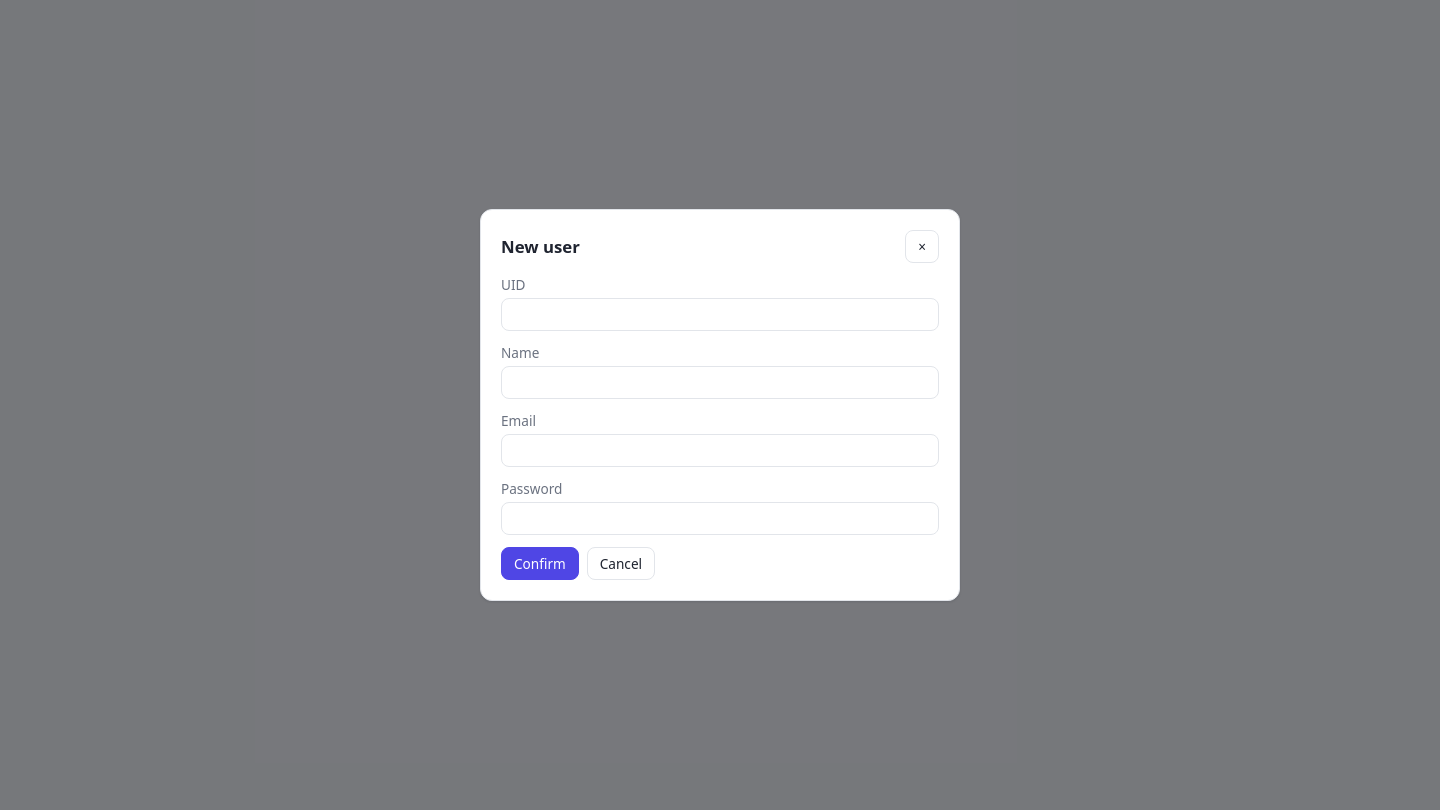
Test case: api error keeps modal open with message
Type "carol" into the field with test id "input-uid" at (720,314), box [501,298,939,331]
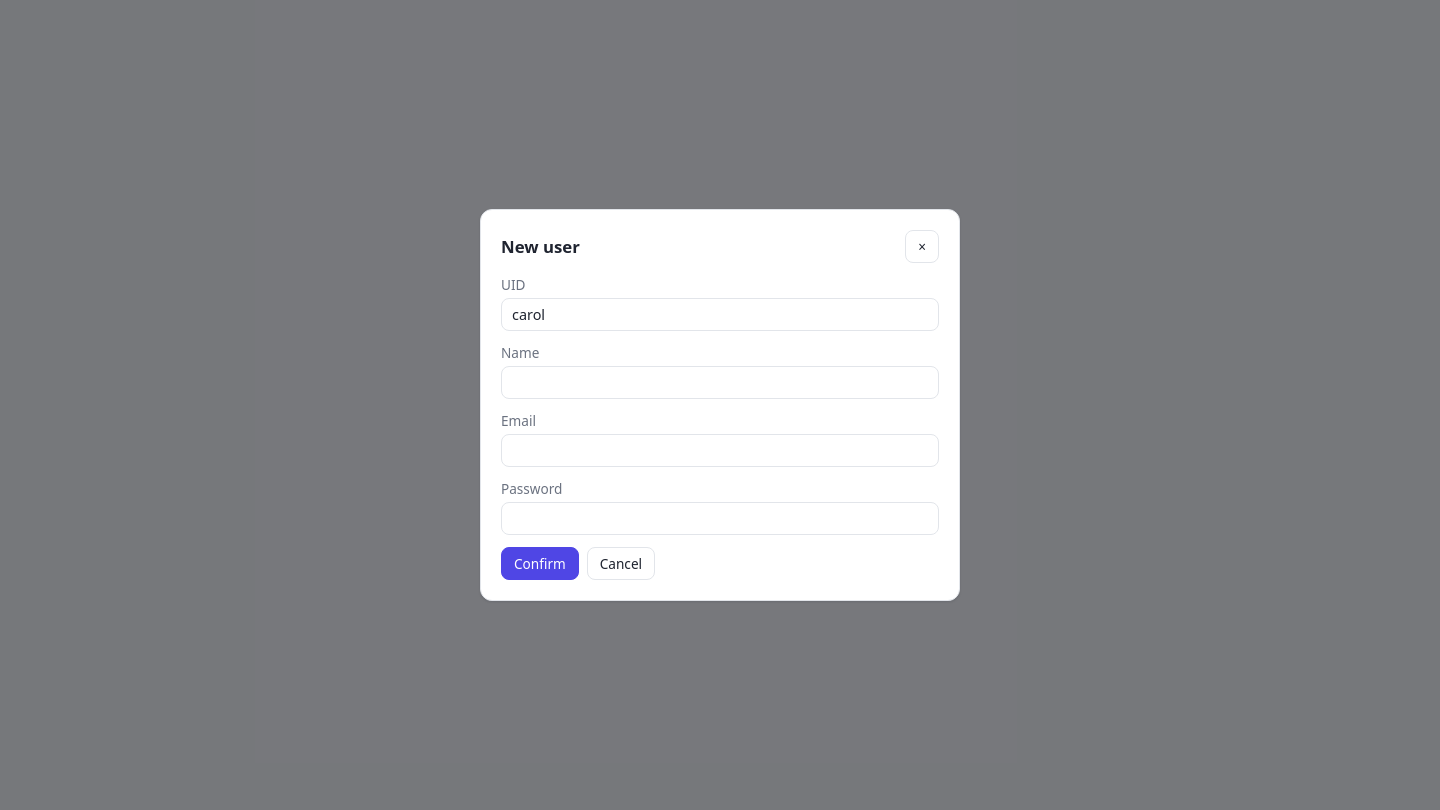
Type "Carol" into the field with test id "input-name" at (720,382), box [501,366,939,399]
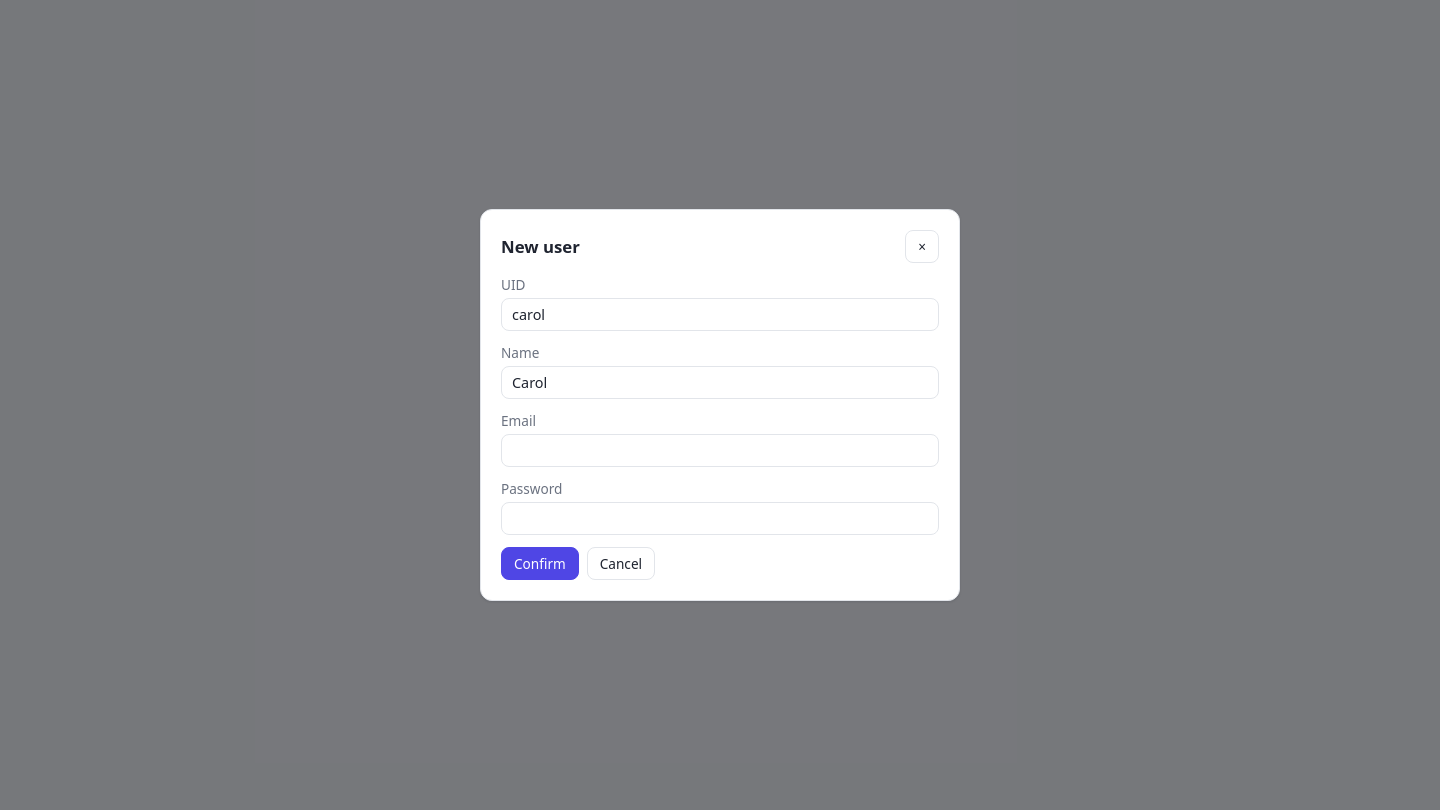
Type "s3cret" into the password field with test id "input-password" at (720,518), box [501,502,939,535]
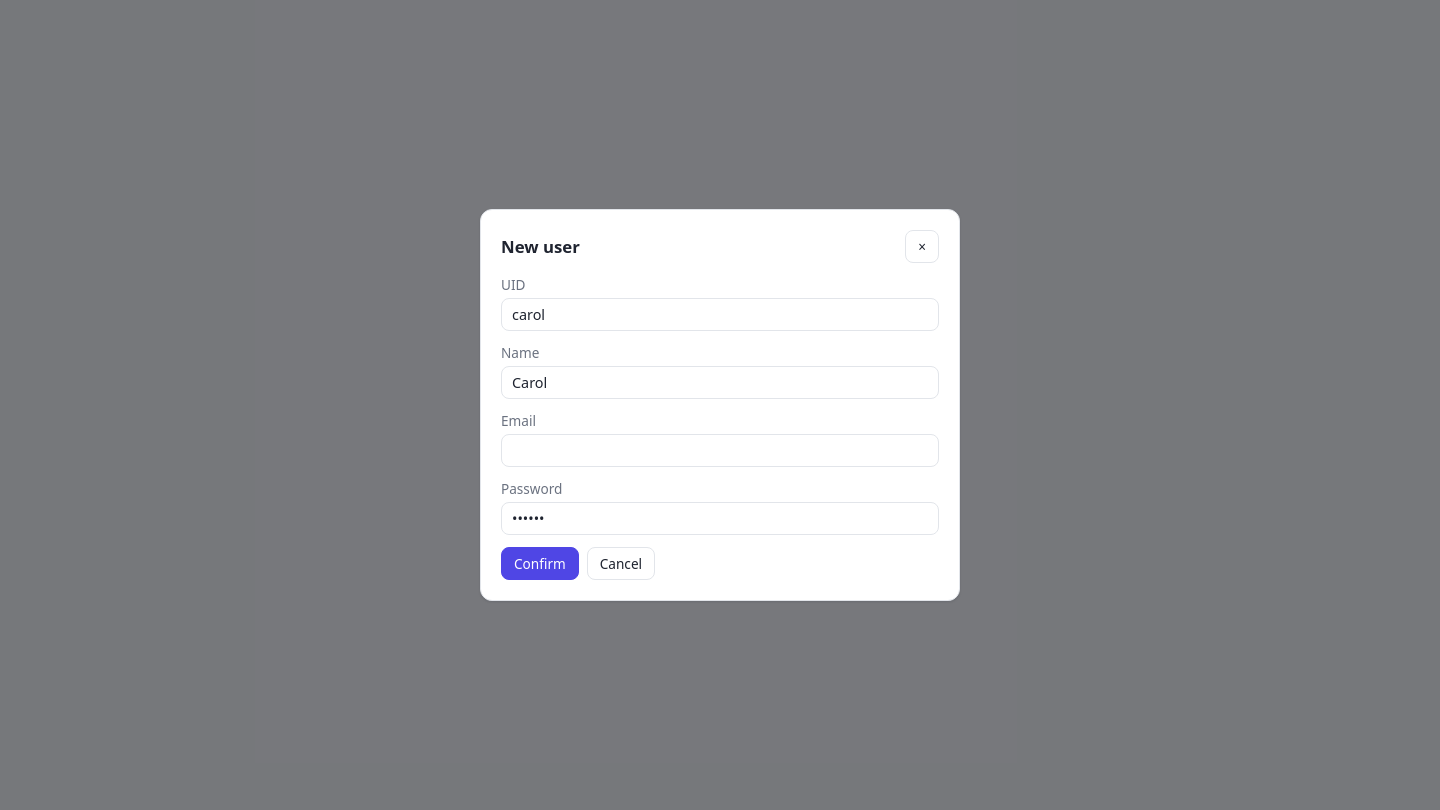
Click the button with test id "create-button" at (540,564), box [501,547,579,580]
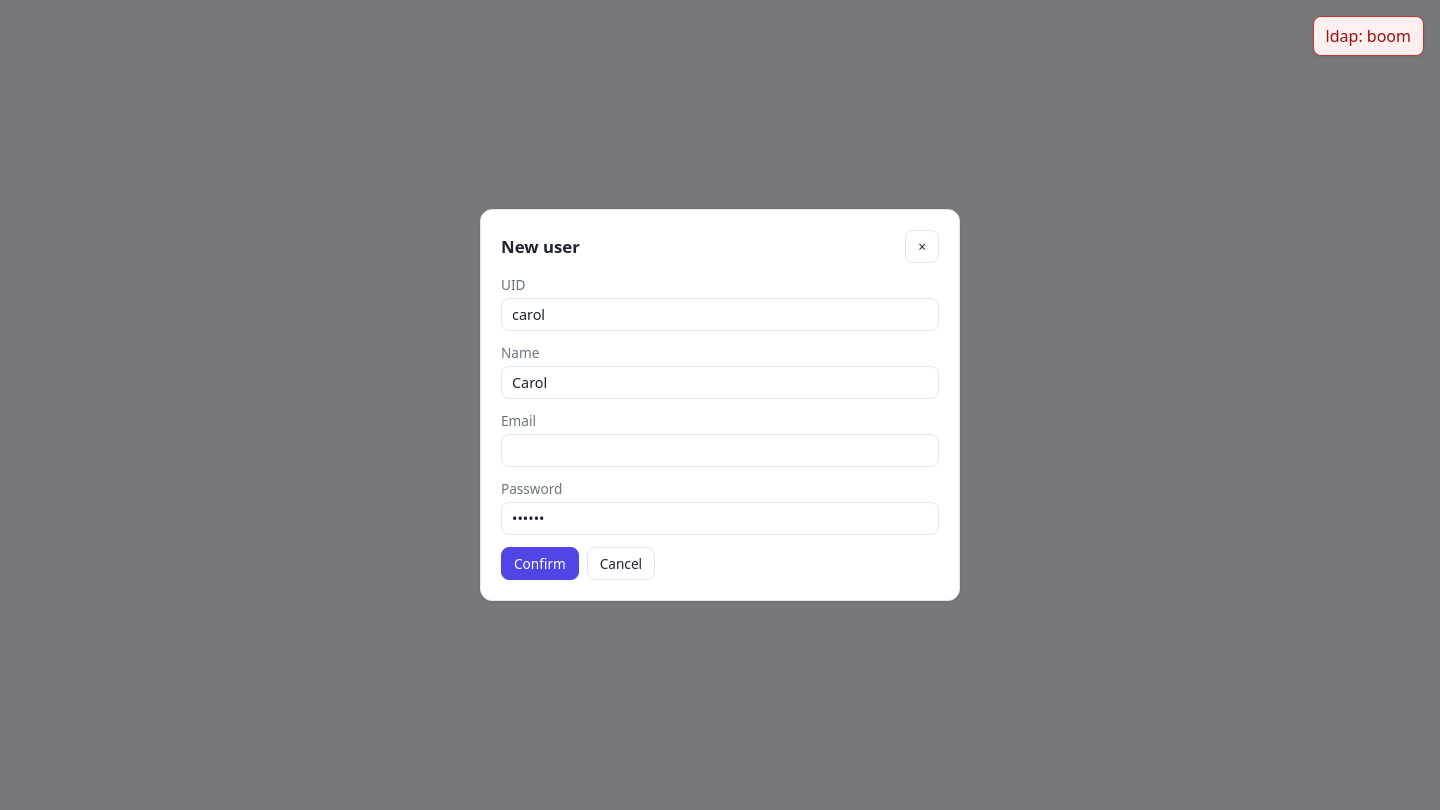
Check: the text with test id "toast-error" reads "ldap: boom", box [1326,25,1411,47]
